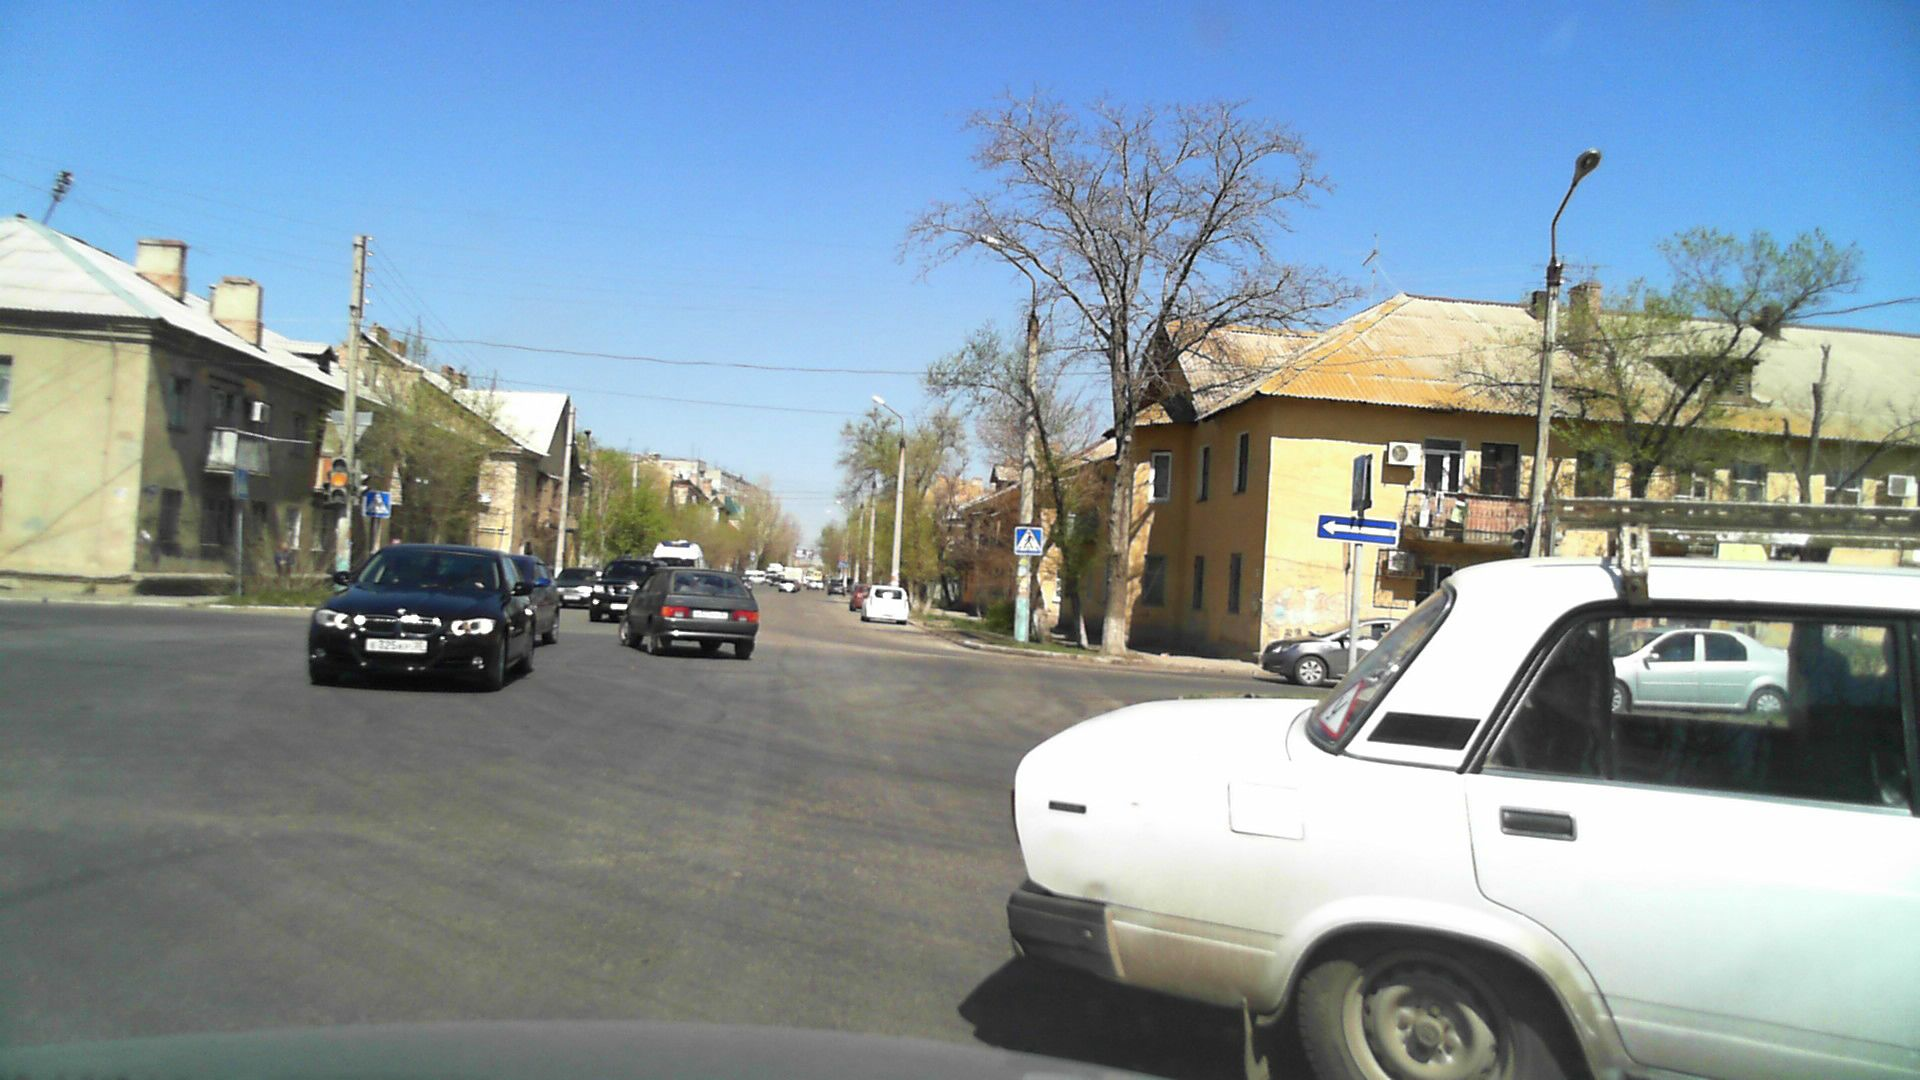One-Way Traffic: (1317, 514, 1398, 545)
Pedestrian Crossing: (1015, 527, 1042, 554)
